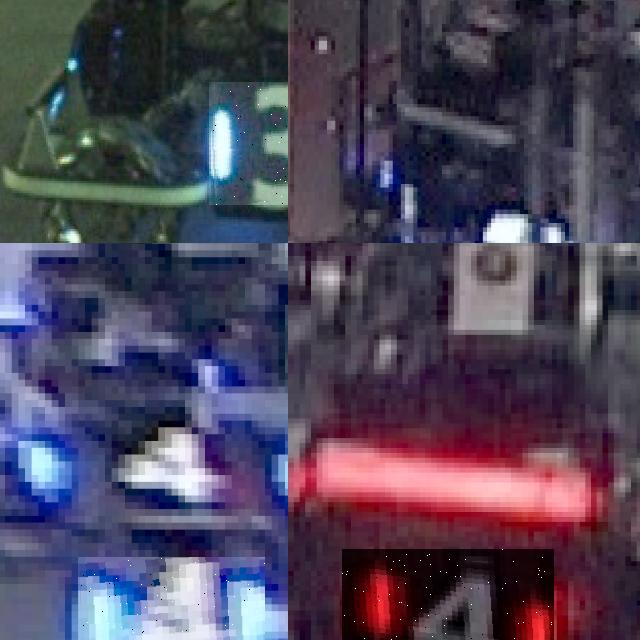B3: (209, 82, 288, 204)
R4: (342, 549, 553, 640), (78, 556, 264, 640)
